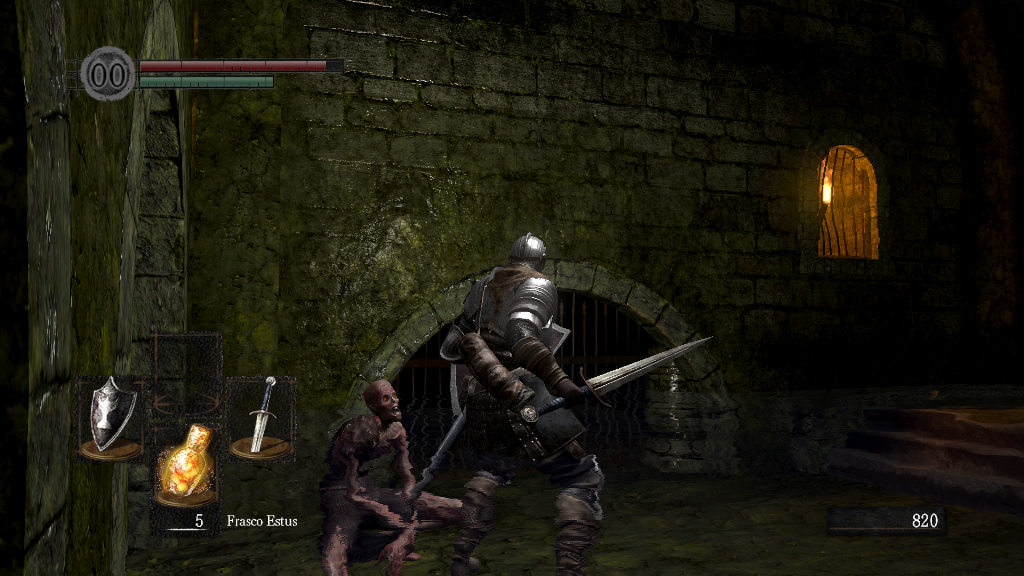health: (138, 58, 343, 71)
hollow: (315, 381, 461, 576)
humanity: (80, 45, 136, 102)
player: (439, 232, 715, 576)
souls: (825, 506, 945, 536)
stamina: (138, 74, 274, 88)
